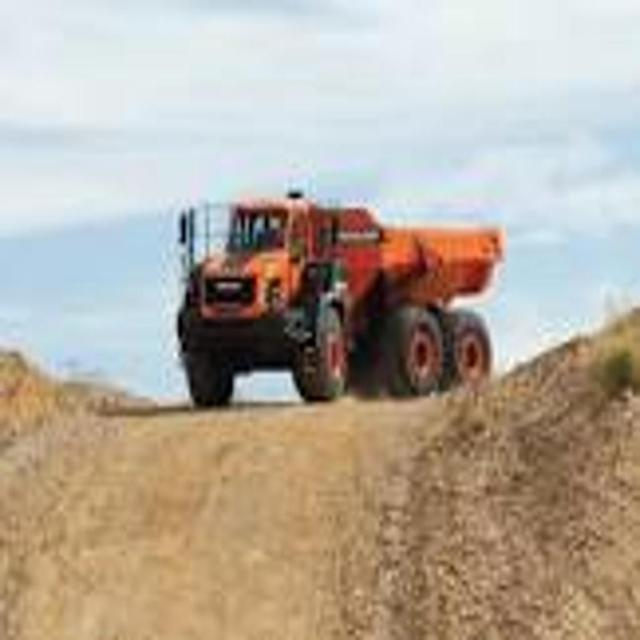dump_truck: (172, 170, 509, 416)
